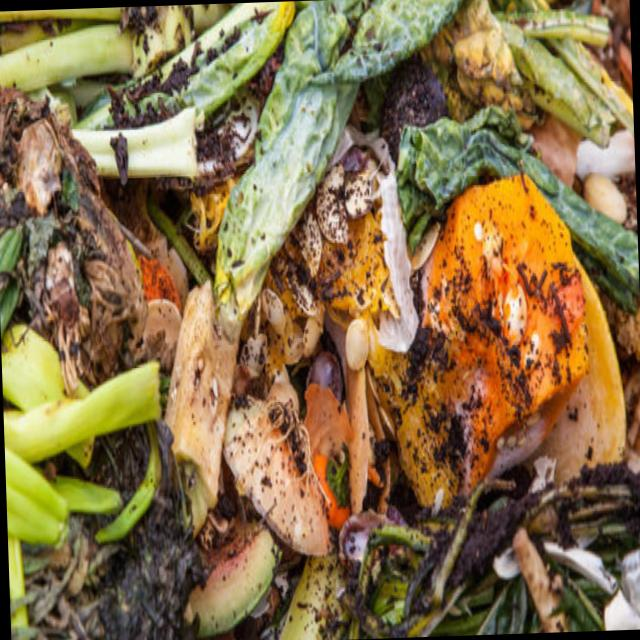paper: (408, 151, 607, 512), (59, 1, 298, 200), (0, 306, 168, 551), (222, 354, 340, 568)
